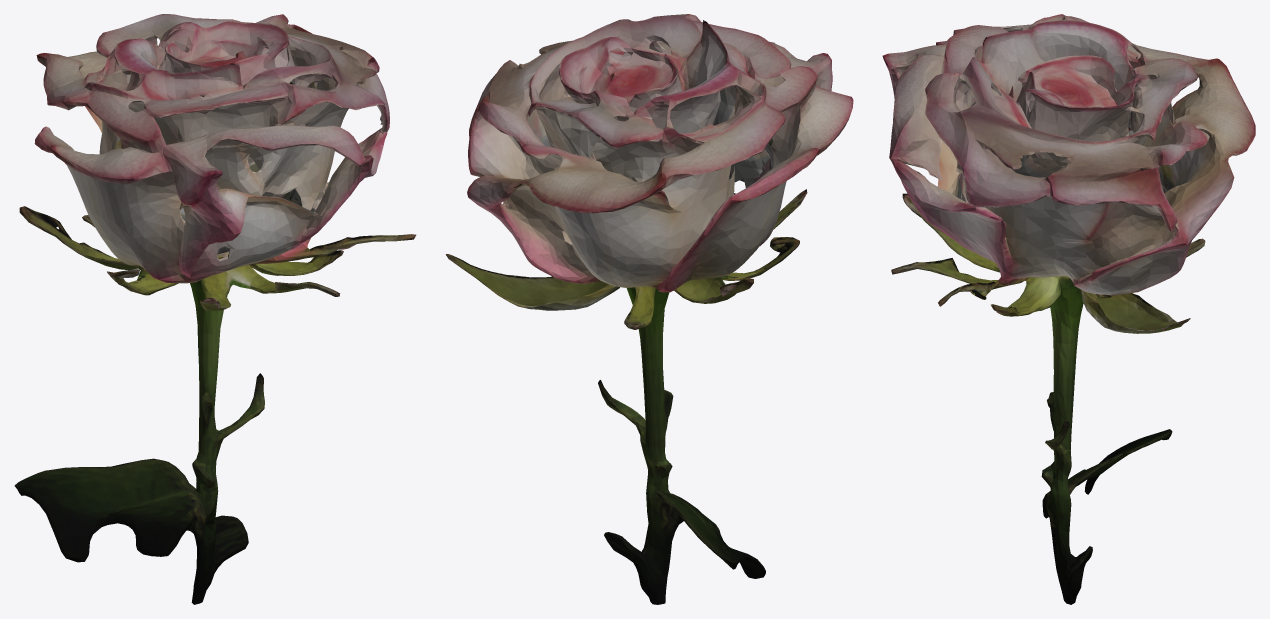
3 renders of one model, left to right at view 1: azimuth 30°, elevation 25°; view 2: azimuth 150°, elevation 25°; view 3: azimuth 270°, elevation 25°, orthographic. The views are drawn at different scales.
Parts seen in each view (by area): view 1: world; view 2: world; view 3: world.
Part boxes in pixels (x1,y1,x2,y2): world: (14, 14, 416, 604); world: (446, 14, 853, 604); world: (882, 14, 1255, 604).
Bounding box in the file's own units: 0.5939 × 0.9777 × 0.5892.
1 material, 1 textured.
